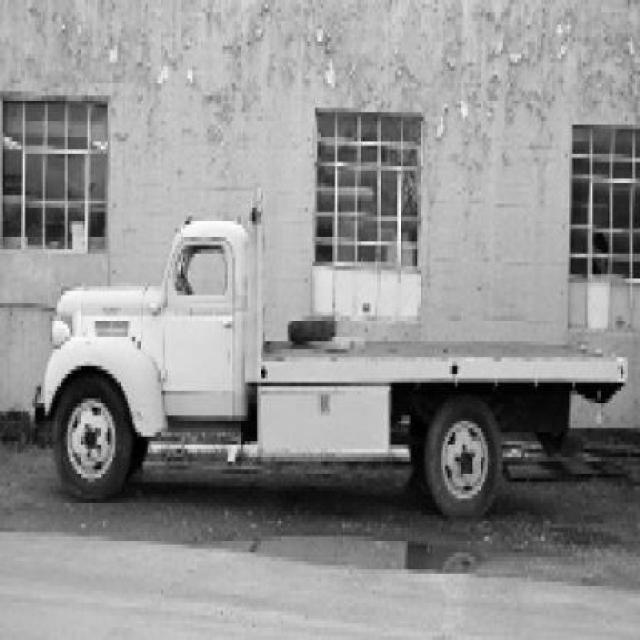Box Truck: (35, 185, 630, 521)
